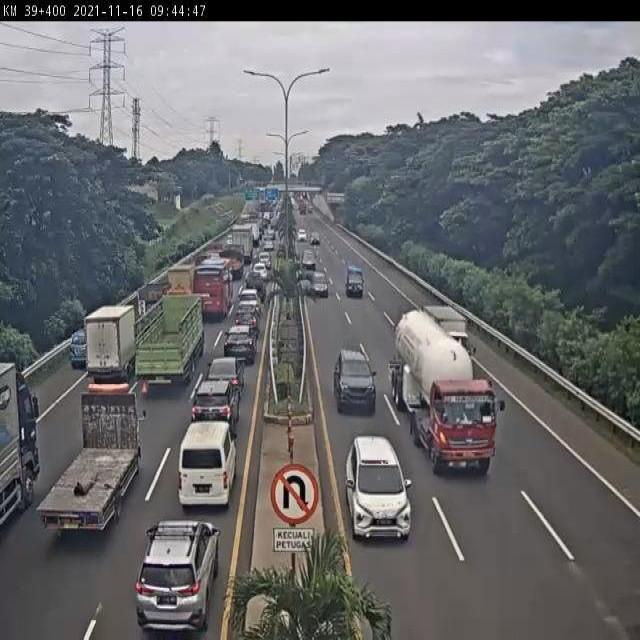big bus: (193, 257, 233, 320)
car: (136, 517, 222, 636), (344, 438, 414, 546), (188, 382, 236, 447), (332, 346, 379, 410), (205, 355, 246, 396), (223, 327, 255, 365), (67, 328, 96, 364), (232, 308, 259, 335), (236, 288, 261, 316)
small bus: (174, 426, 234, 510)
small truck: (422, 303, 473, 368), (163, 263, 196, 309)
truck-l-: (133, 294, 207, 394)
truck-m-: (40, 385, 148, 540), (85, 303, 138, 387), (130, 280, 168, 320)
truck-xl-: (388, 306, 500, 474)
